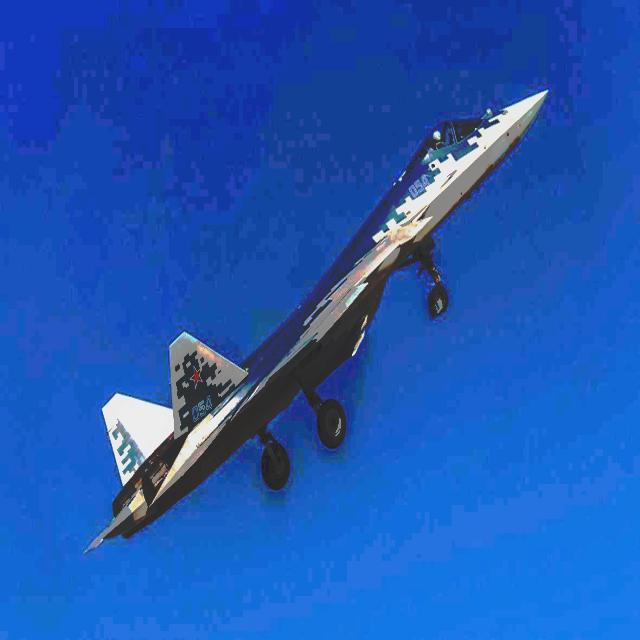Aircraft: (80, 81, 552, 561)
